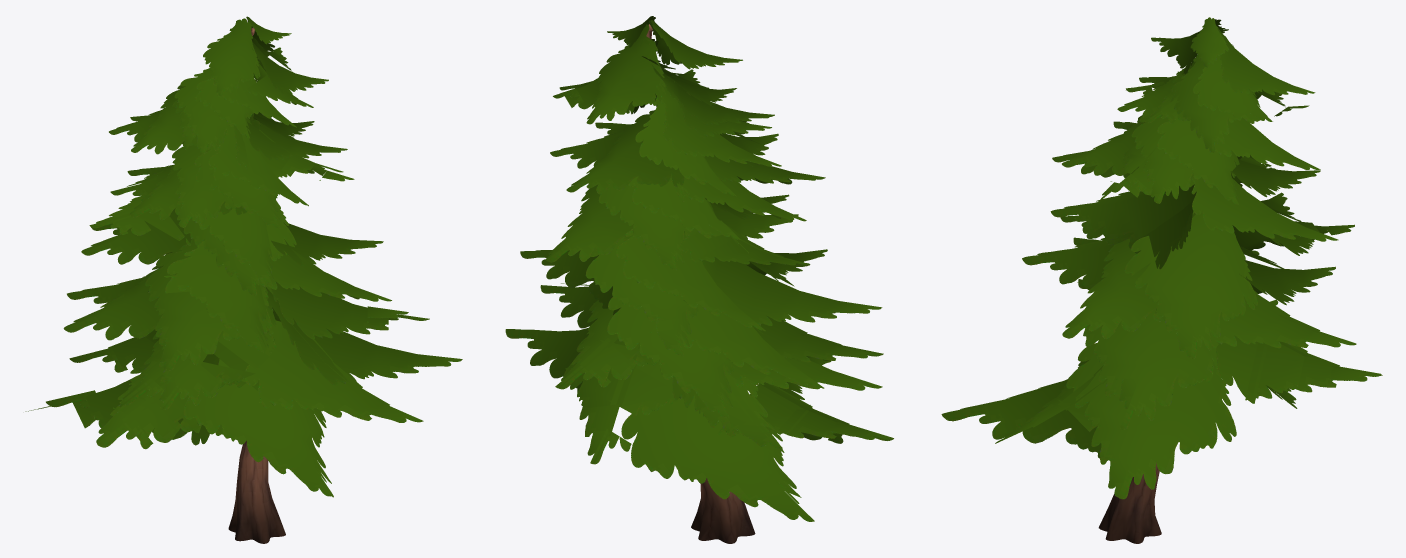
Rendered from Pine_5.glb.
The picture shows the model from 3 angles, left to right: view 1: azimuth 30°, elevation 25°; view 2: azimuth 150°, elevation 25°; view 3: azimuth 270°, elevation 25°; orthographic projection. The views are drawn at different scales.
Visible parts, largest first — view 1: Pine_5; view 2: Pine_5; view 3: Pine_5.
Part boxes in pixels (<box>): Pine_5: <box>25,16,462,543</box>; Pine_5: <box>505,16,893,543</box>; Pine_5: <box>941,17,1382,543</box>.
Size of the model in its own units: 7.06 by 8.78 by 6.88.
2 materials, 2 textured.
